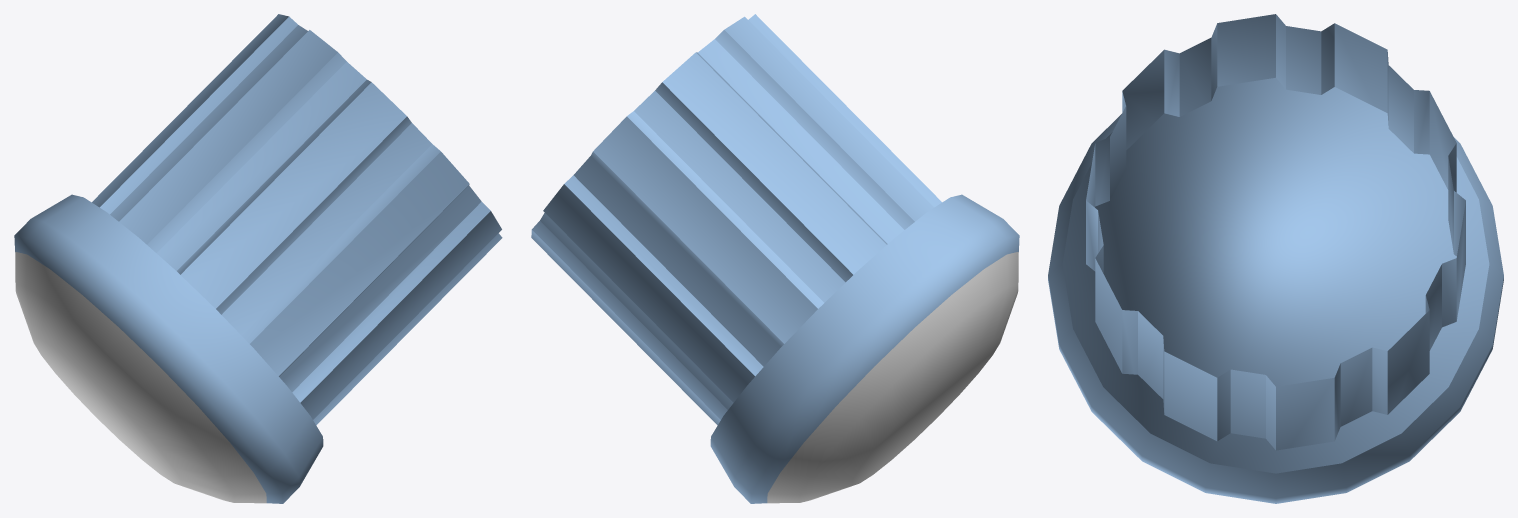
Rendered from Projector.fbx.
3 renders of one model, left to right at view 1: azimuth 30°, elevation 25°; view 2: azimuth 150°, elevation 25°; view 3: azimuth 270°, elevation 25°, orthographic. The views are drawn at different scales.
Visible parts, largest first — view 1: Cylinder; view 2: Cylinder; view 3: Cylinder.
Boxes of the visible parts, <box> form: Cylinder: <box>14,14,502,503</box>; Cylinder: <box>531,14,1019,503</box>; Cylinder: <box>1048,14,1503,503</box>.
Bounding box in the file's own units: 65.99 × 65.17 × 51.04.
